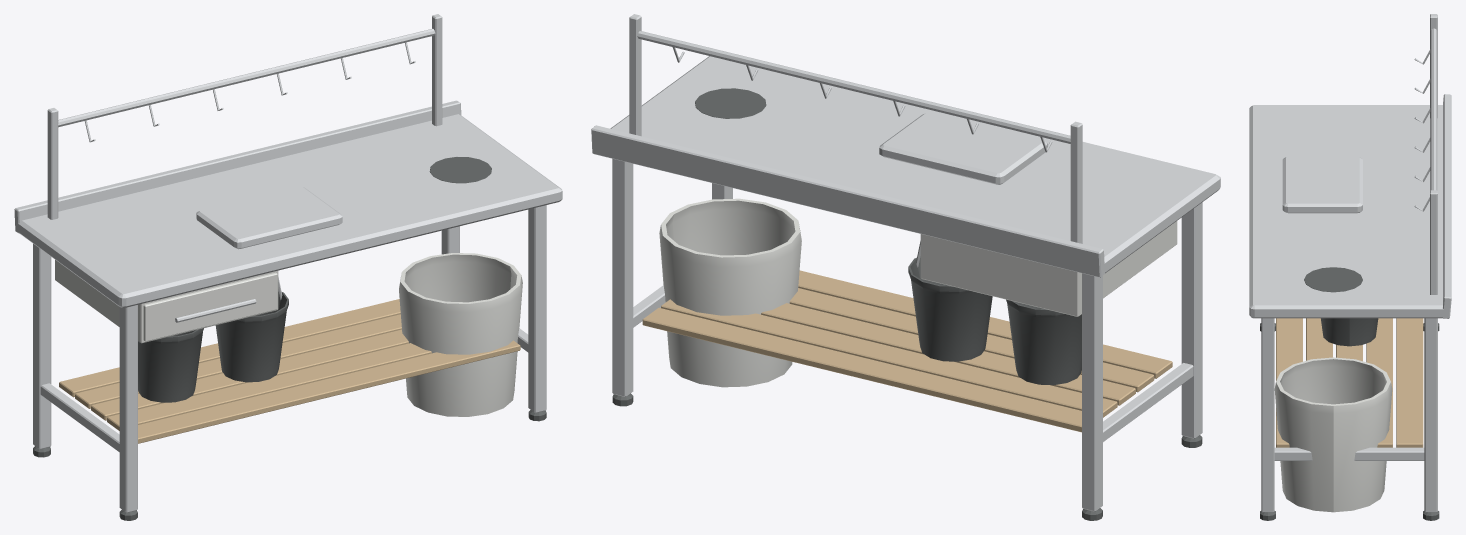
The model's file is garden-centre-and-florist-florist-workbench-a0cfb4bb__17759.glb.
The picture shows the model from 3 angles, left to right: view 1: azimuth 30°, elevation 25°; view 2: azimuth 150°, elevation 25°; view 3: azimuth 270°, elevation 25°; orthographic projection. The views are drawn at different scales.
Parts seen in each view (by area): view 1: florist-workbench, bench-drawer; view 2: florist-workbench; view 3: florist-workbench.
Part boxes in pixels (bbox=[...]): florist-workbench: bbox=[14, 14, 562, 520]; bench-drawer: bbox=[143, 272, 277, 341]; florist-workbench: bbox=[591, 14, 1220, 520]; florist-workbench: bbox=[1249, 14, 1451, 520].
Bounding box in the file's own units: 1.8 × 1.32 × 0.7568.
